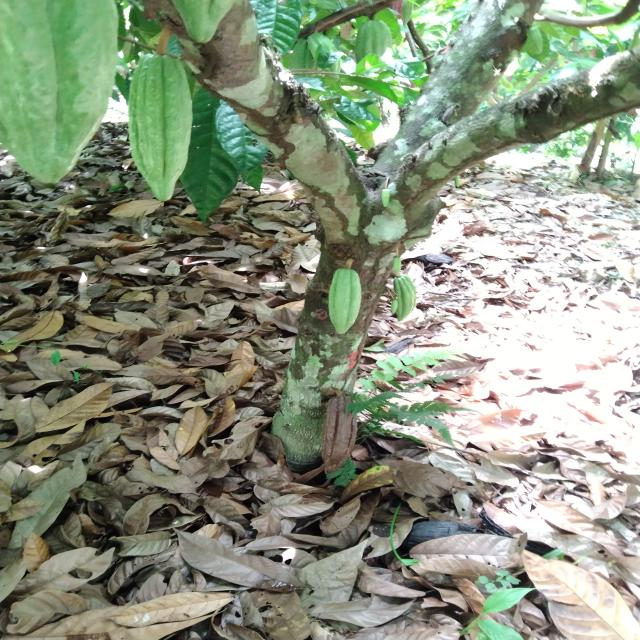Fitoftora: (317, 390, 362, 469)
Sana: (0, 0, 113, 197), (132, 50, 193, 200), (172, 0, 226, 46), (329, 267, 365, 331), (356, 19, 394, 54), (394, 276, 417, 323), (380, 188, 390, 208)
